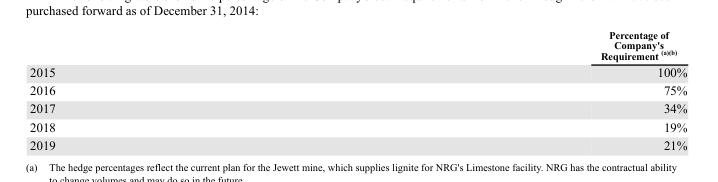table: (28, 28, 686, 151)
table column: (327, 28, 686, 151), (28, 28, 327, 151)
table column header: (28, 28, 686, 62)
table row: (28, 28, 686, 62), (28, 80, 686, 99), (28, 62, 686, 80), (28, 99, 686, 117), (28, 117, 686, 135), (28, 135, 686, 151)
